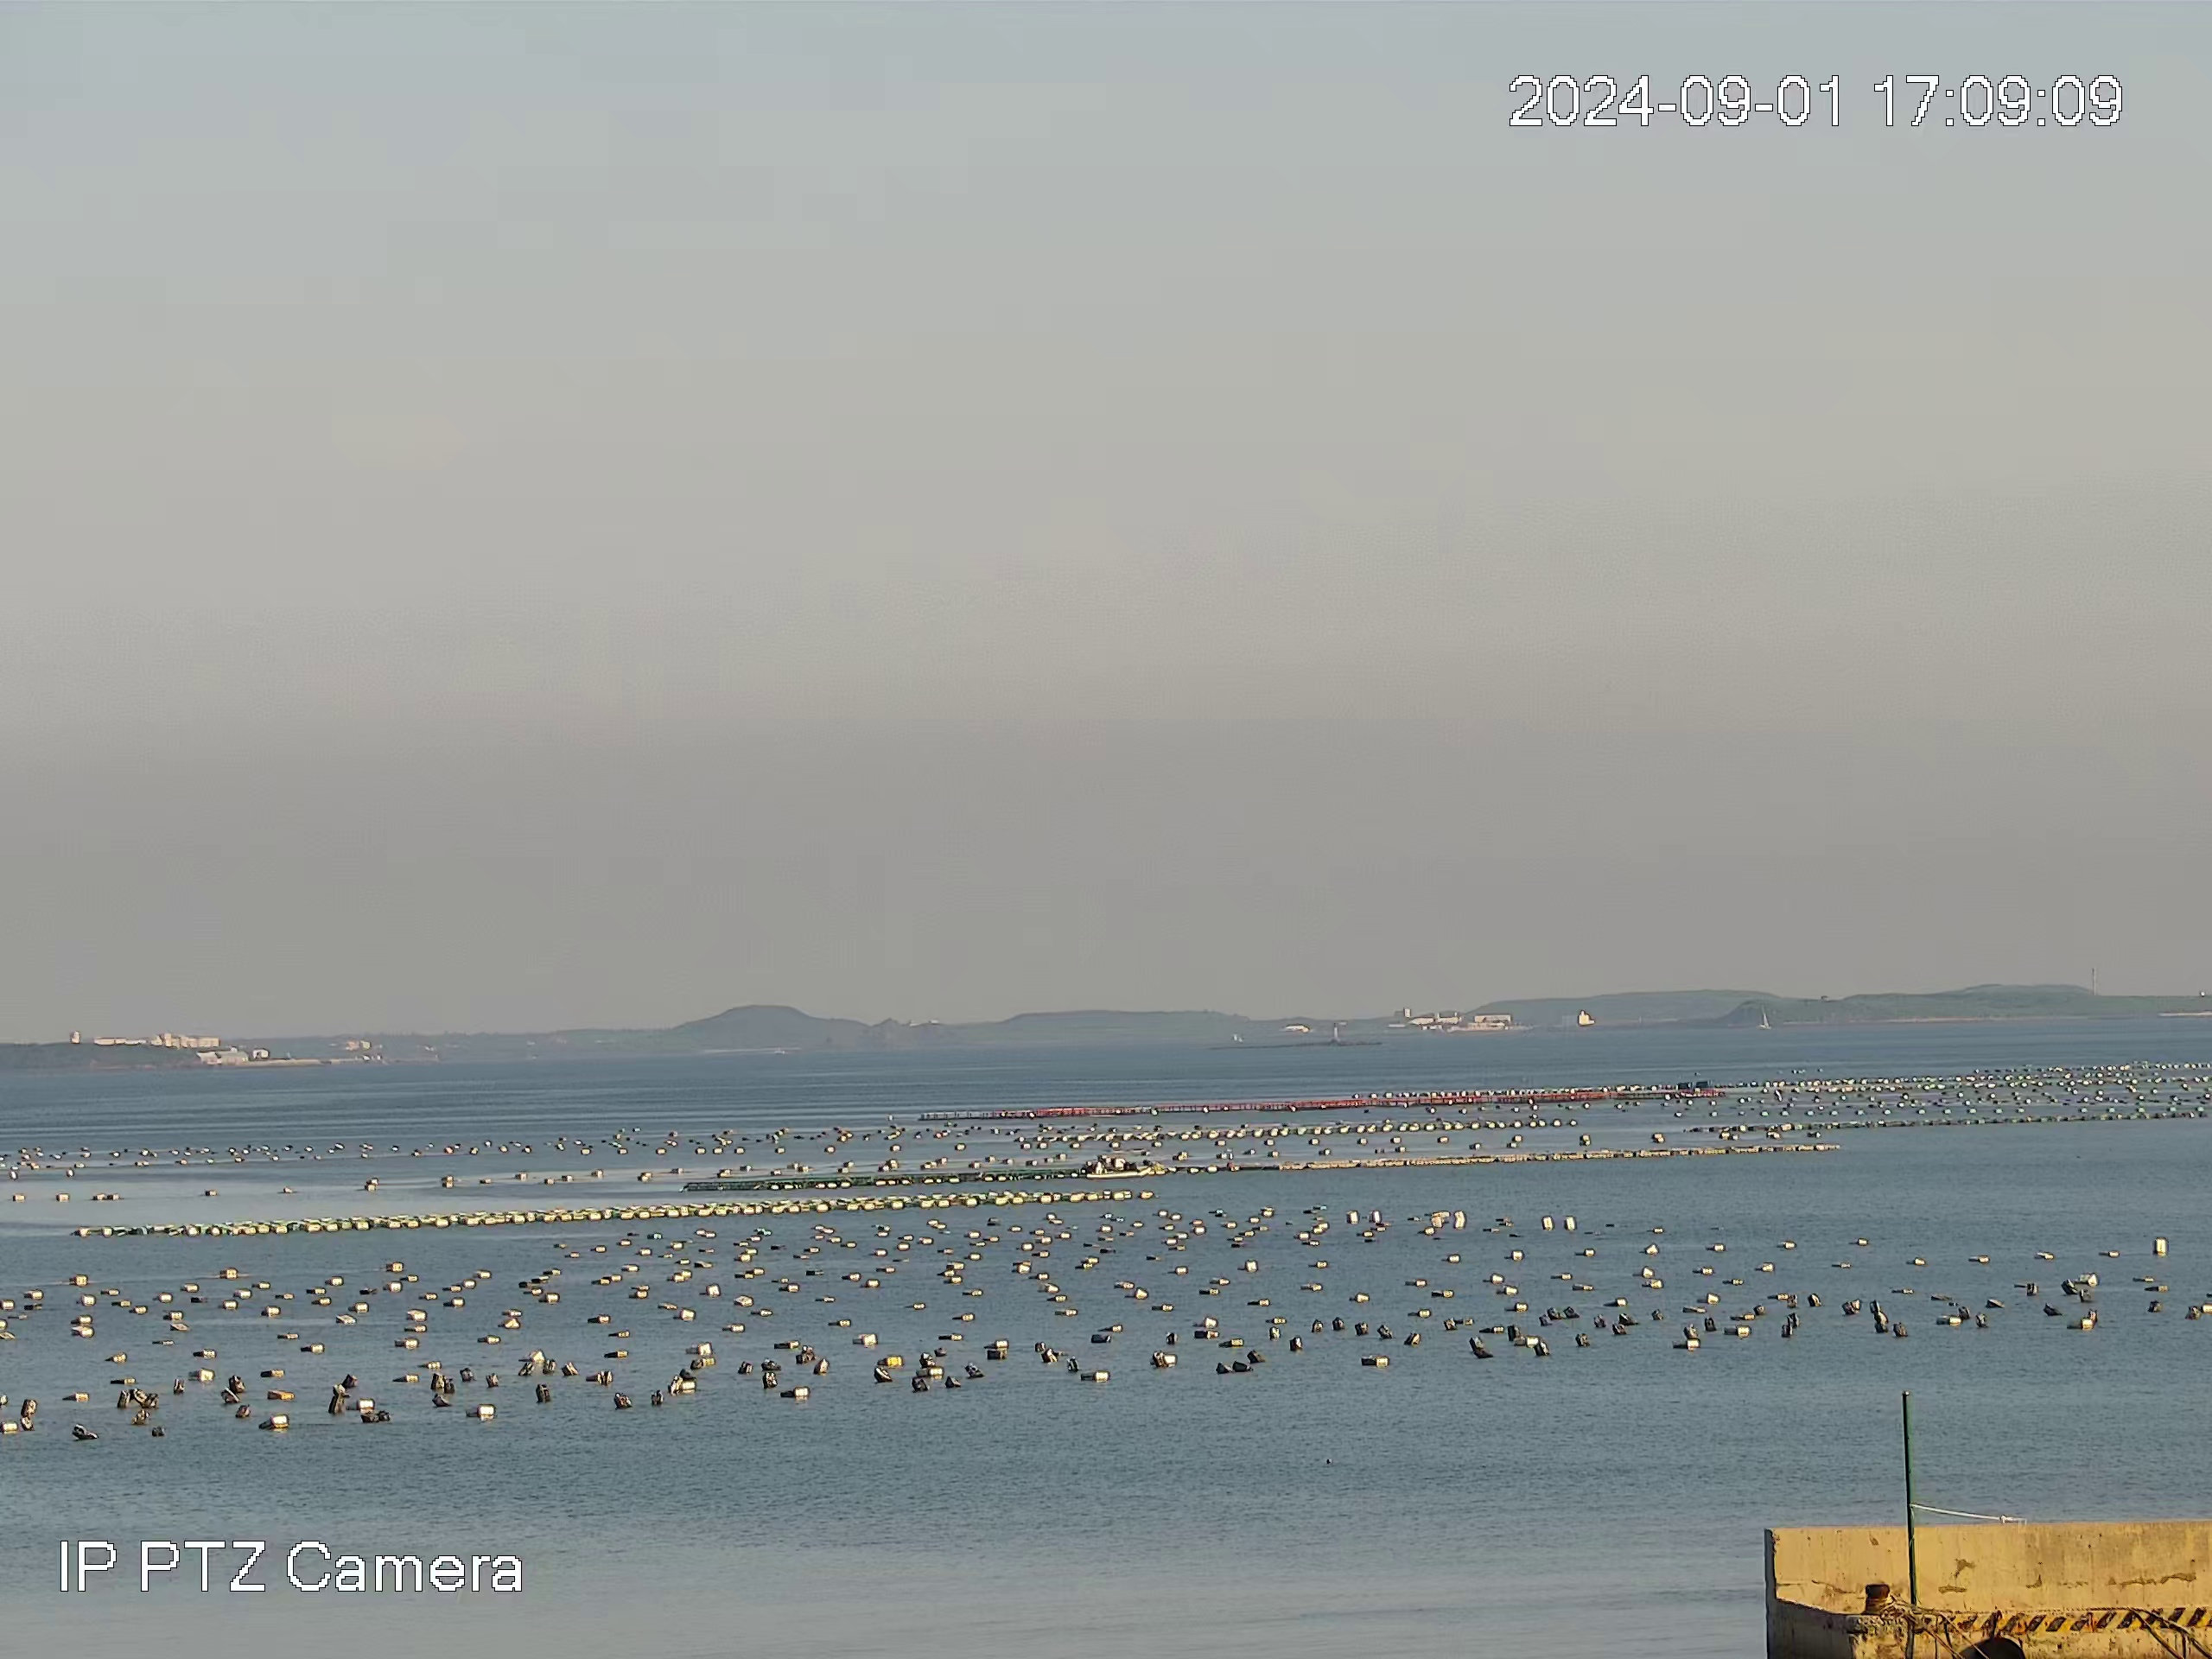boat: (1089, 1154, 1153, 1182)
